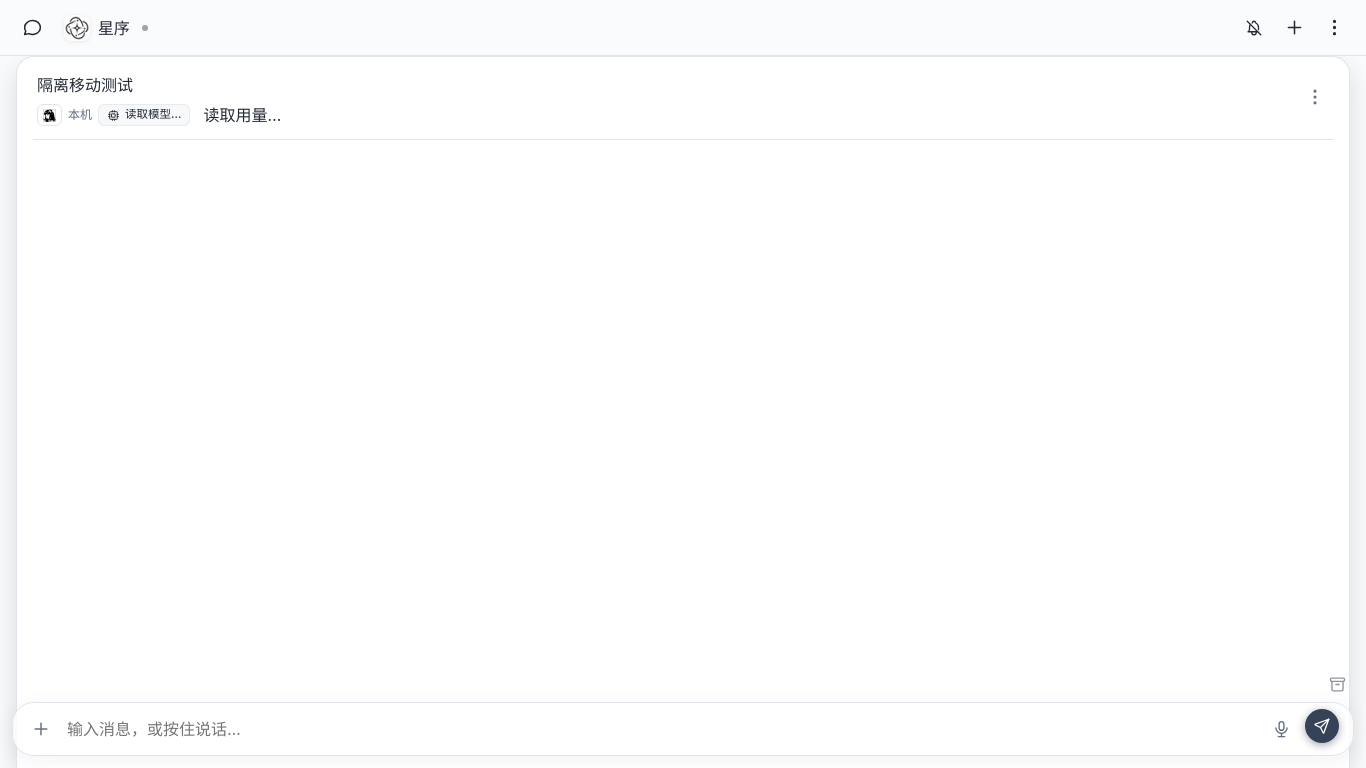
Scenario: independent mobile composer › shows native connection, agent, model and branch in runtime status
The width and height of the screenshot is (1366, 768).
Step 1. Click the button named "会话操作" → x=1315, y=97, box x1=1295 y1=77 x2=1335 y2=117
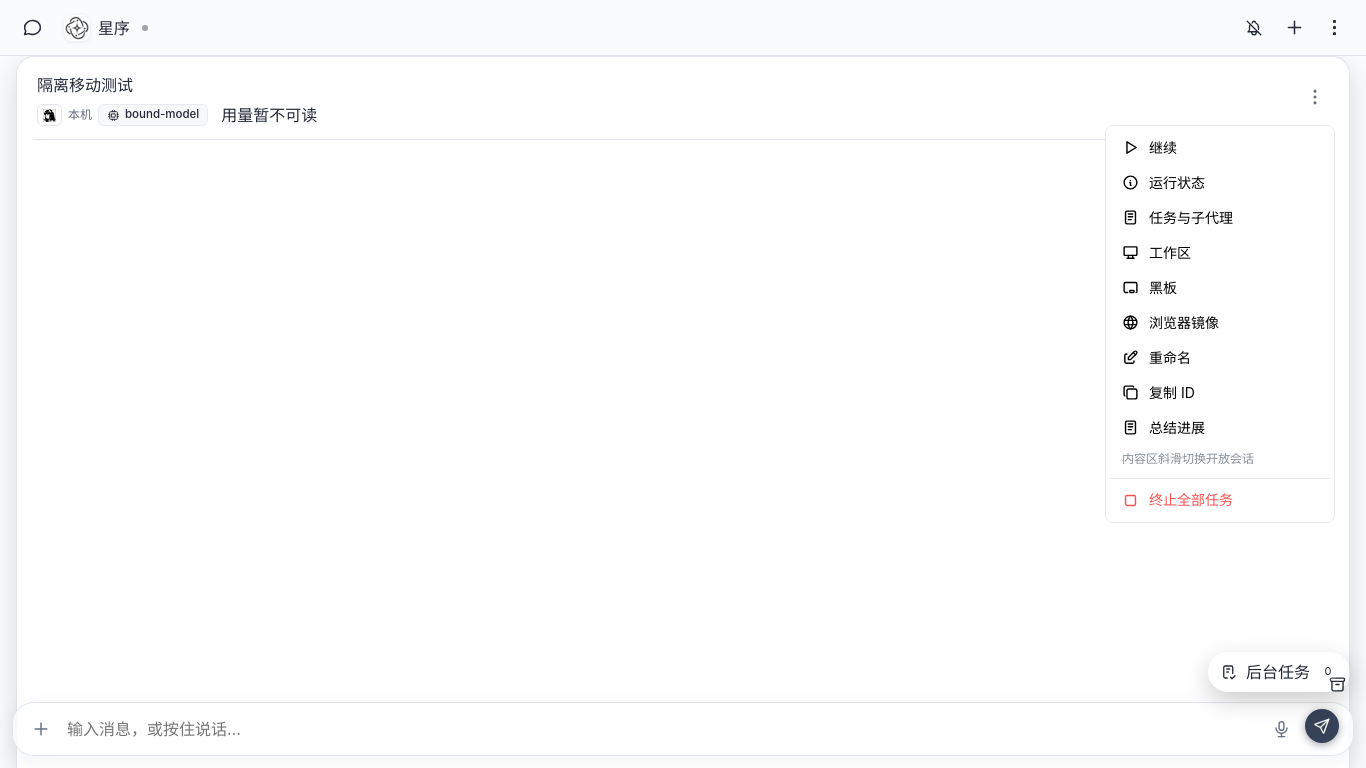
Step 2. Click the menu item "运行状态" → x=1220, y=182, box x1=1110 y1=165 x2=1330 y2=200
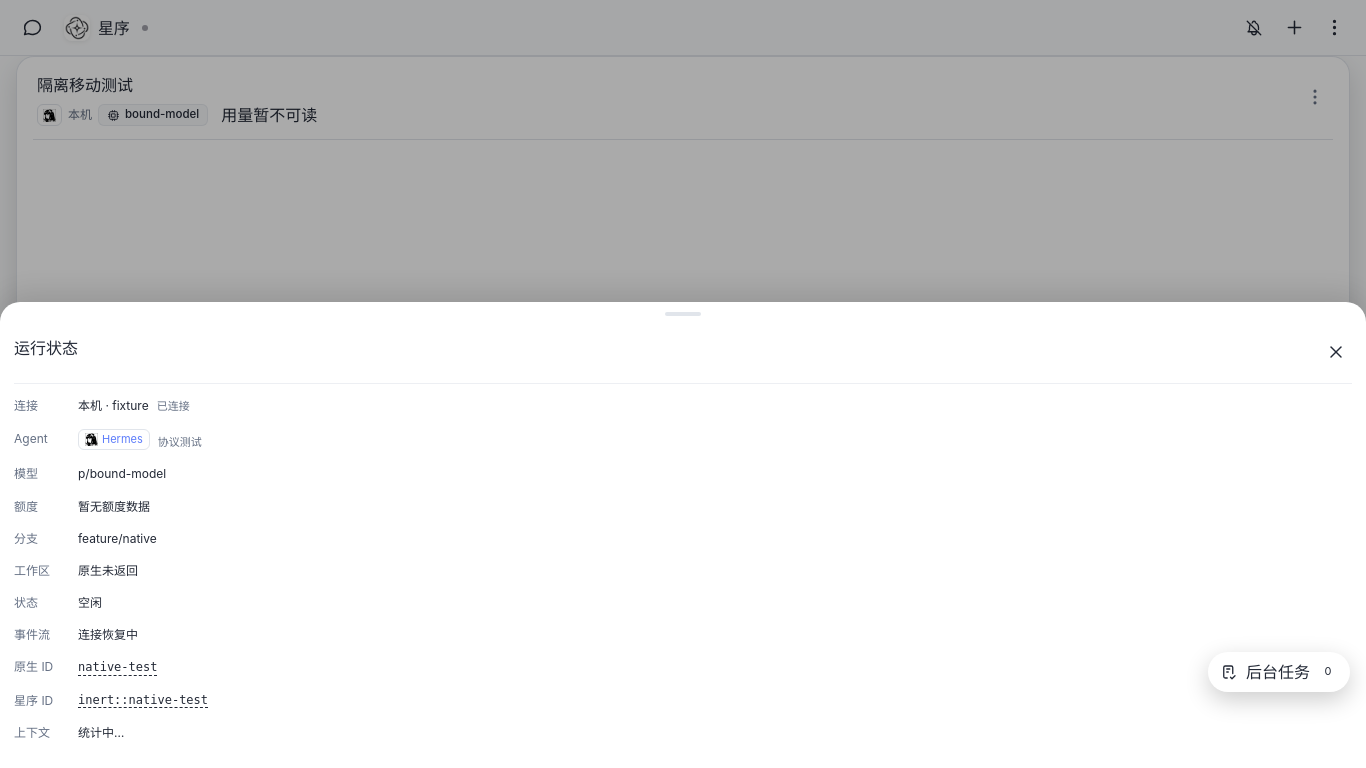
Result: the element named "运行信息" shows "feature/native" at x1=78 y1=531 x2=157 y2=546
Result: the element named "运行信息" shows "p/bound-model" at x1=78 y1=466 x2=166 y2=481
Result: the element named "运行信息" shows "Hermes" at x1=102 y1=432 x2=143 y2=446
